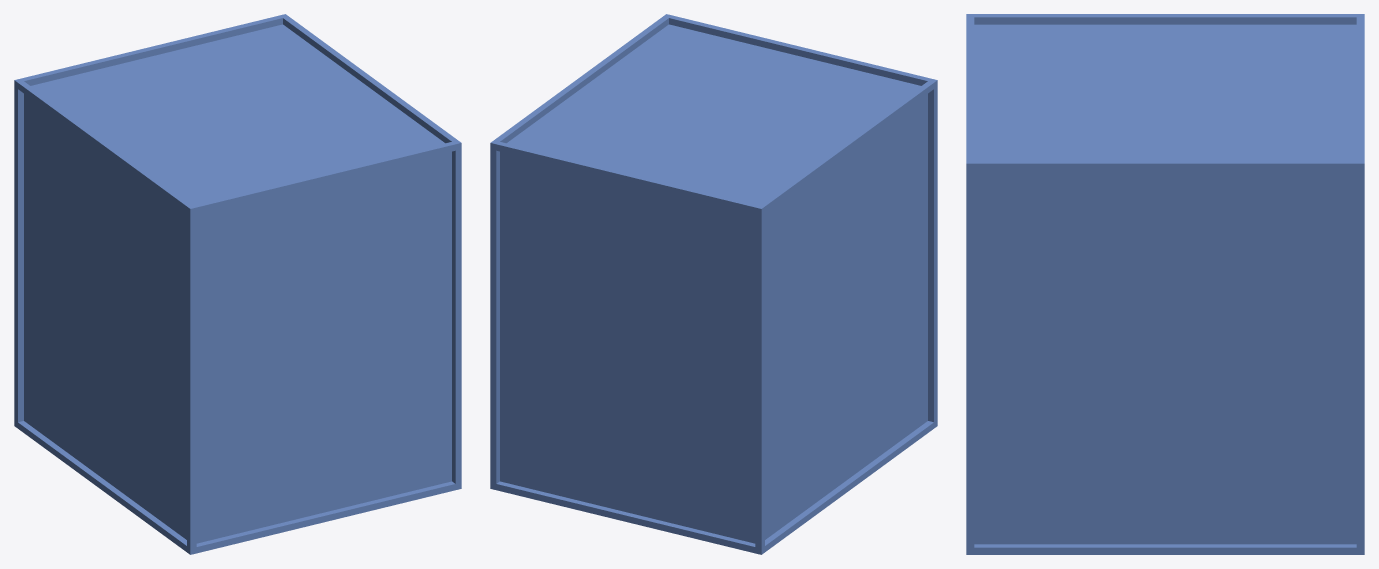
3 views of the same model, side by side, from view 1: azimuth 30°, elevation 25°; view 2: azimuth 150°, elevation 25°; view 3: azimuth 270°, elevation 25° (orthographic). The views are drawn at different scales.
Visible parts, largest first — view 1: Box001; view 2: Box001; view 3: Box001.
Boxes of the visible parts, x1=… form: Box001: x1=14, y1=14, x2=461, y2=554; Box001: x1=490, y1=14, x2=937, y2=554; Box001: x1=966, y1=14, x2=1364, y2=554.
Size of the model in its own units: 44.7 by 54.49 by 50.26.
